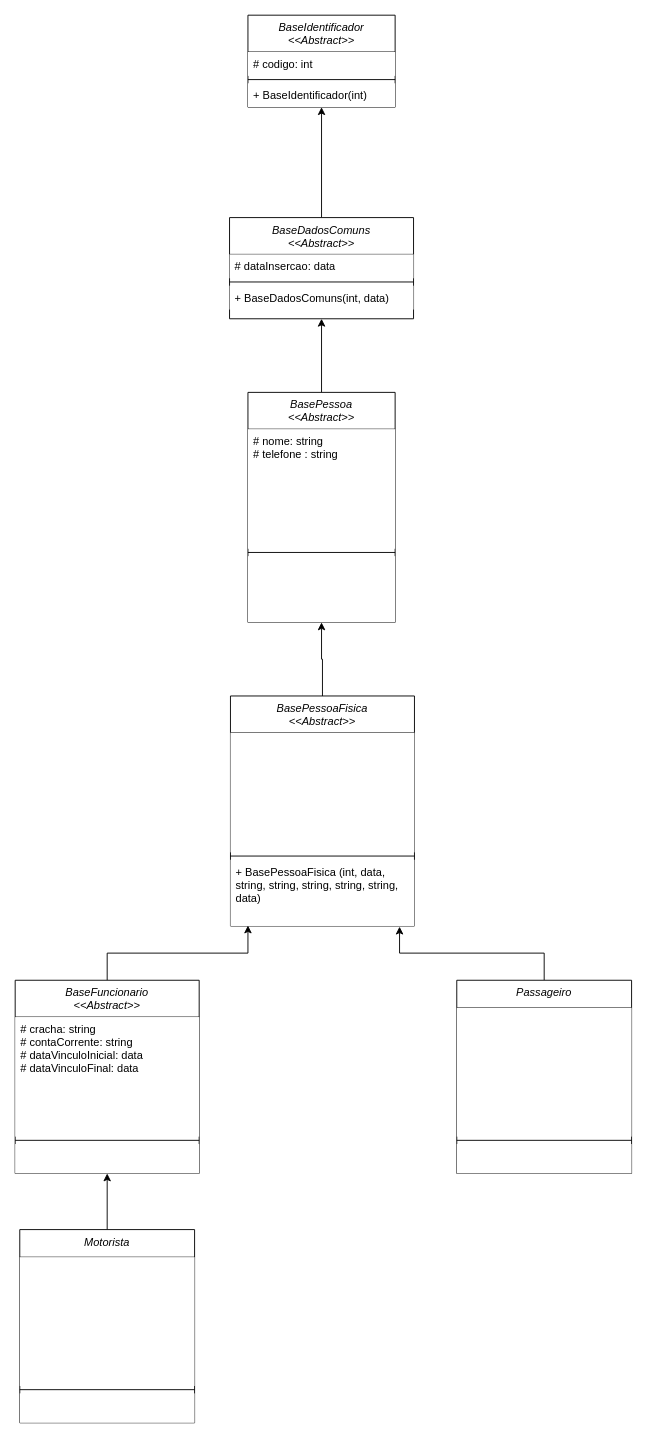
The diagram is 647 pixels wide and 1438 high, and some of its shapes have lost their labels. Here are the shapes that lost their labels. From the top down, the centre of each, then its label:
At [321,589]: "+ BasePessoa (int, data, string, string)".
At [322,792]: "# usuario: string # senha : string # registro: string # dataNascimento: data".
At [543,1071]: "- email: string - numeroCartao: string - documento: string".
At [107,1158]: "+ BaseFuncionario (..., data, data)".
At [543,1158]: "+ Passageiro (...,string, string)".
At [106,1321]: "- cnh: string - registro: string".
At [106,1407]: "+ Motorista (..., string, string)".
